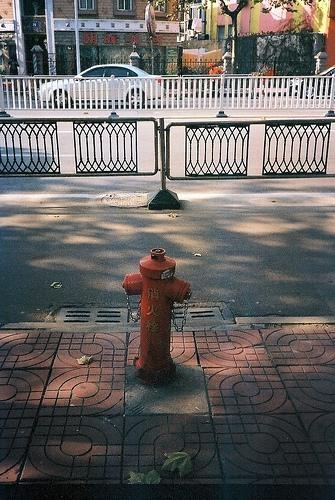car: (38, 78, 164, 110), (313, 64, 335, 77)
